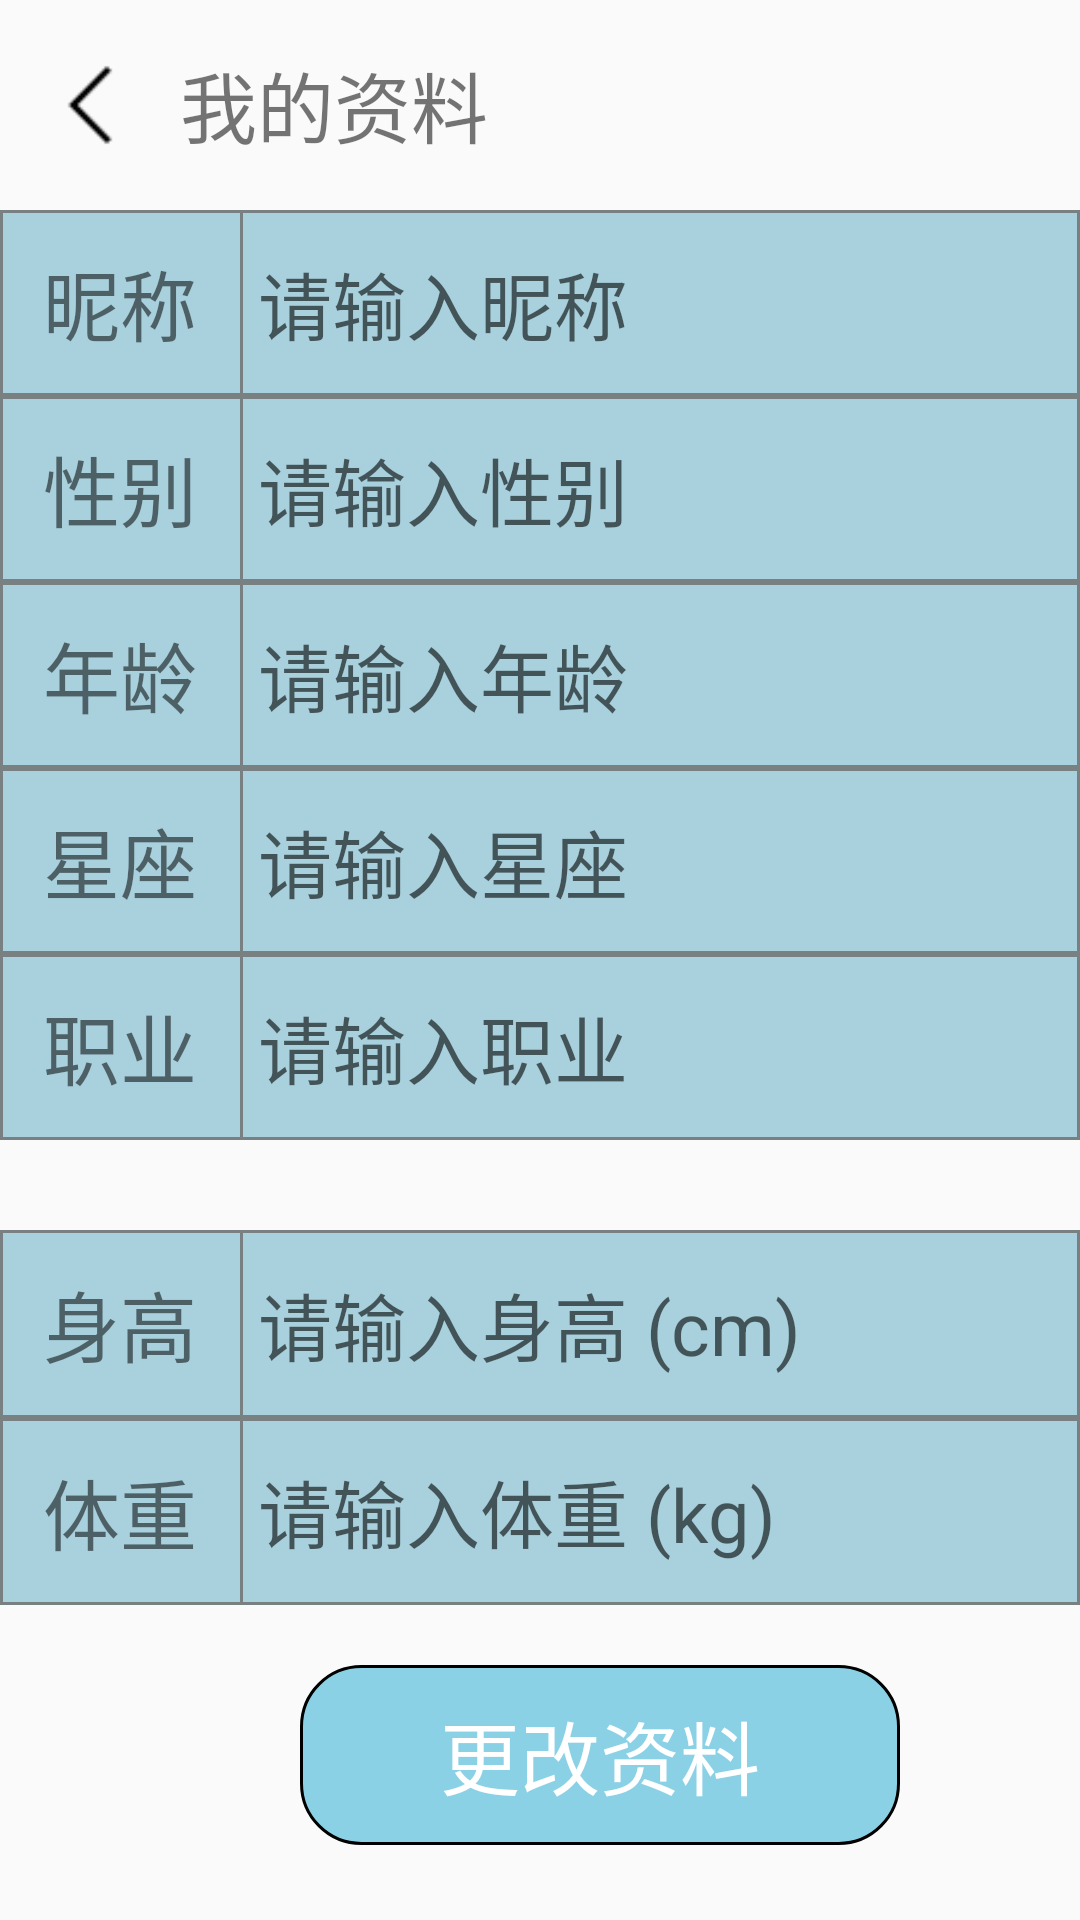

Screen size 1080×1920. Icon name, then its box in pixels as (x1, y1, x2, y2):
back: (68, 66, 112, 144)
